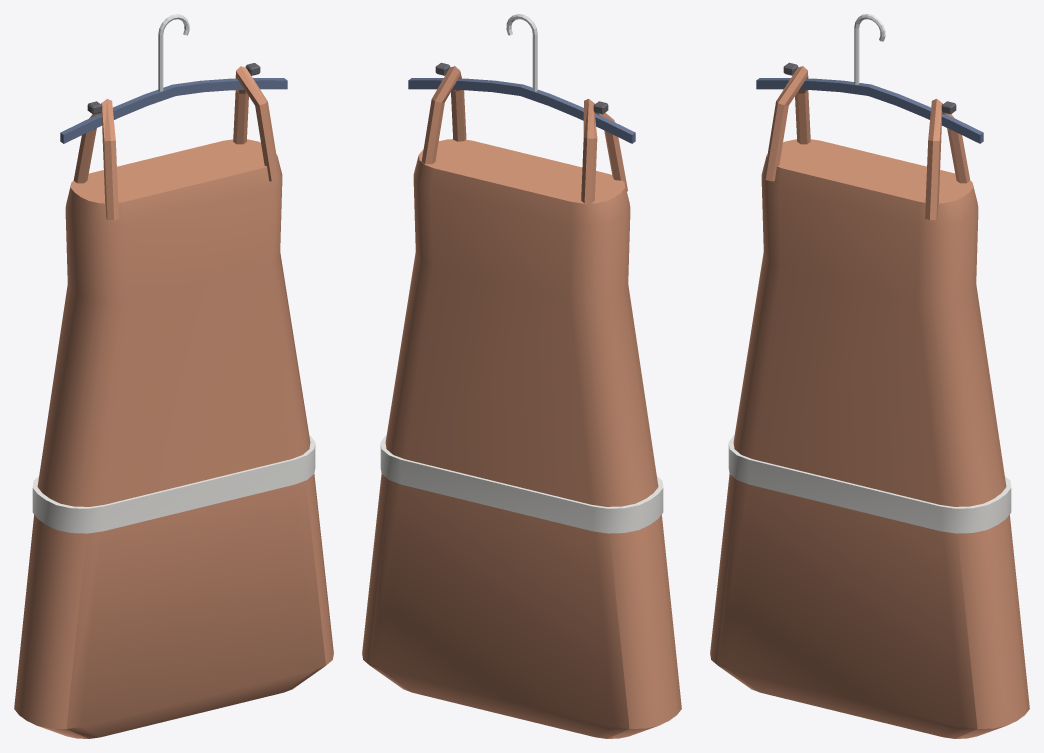
Rendered from clothing-rail-and-wardrobe-dress-on-hanger-8356864f__35455.glb.
The picture shows the model from 3 angles, left to right: view 1: azimuth 30°, elevation 25°; view 2: azimuth 150°, elevation 25°; view 3: azimuth 330°, elevation 25°; orthographic projection.
Visible parts, largest first — view 1: dress-on-hanger; view 2: dress-on-hanger; view 3: dress-on-hanger.
Boxes of the visible parts, x1,y1,x2,y2 form: dress-on-hanger: [14, 14, 333, 738]; dress-on-hanger: [362, 14, 681, 738]; dress-on-hanger: [710, 14, 1029, 738].
Size of the model in its own units: 0.459 by 0.9973 by 0.132.
